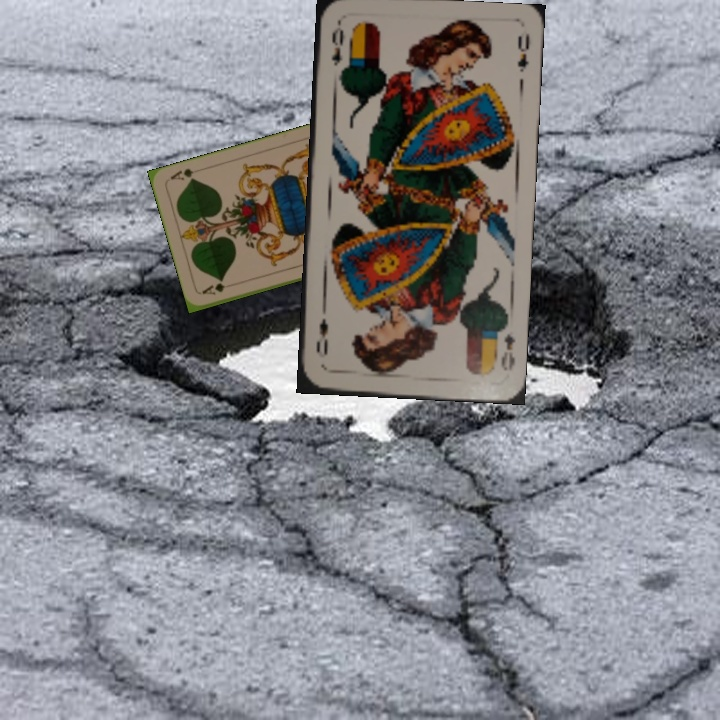EO: (327, 19, 346, 68), (497, 329, 517, 373)
GA: (198, 279, 238, 297)
